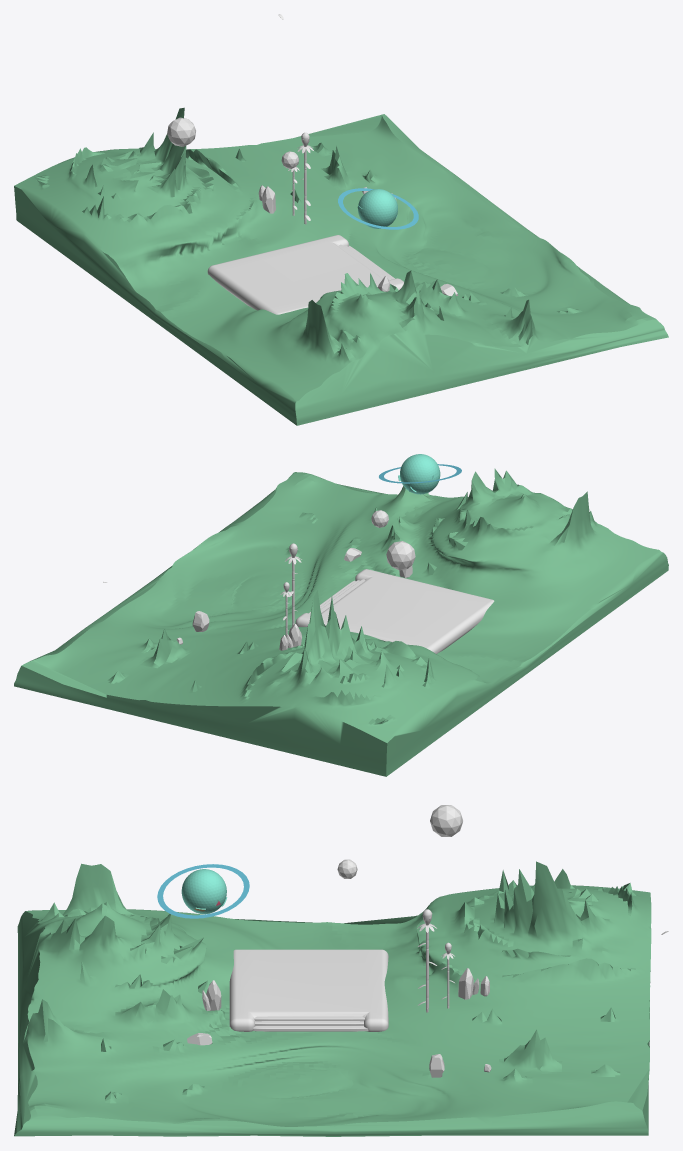
File: scenes.fbx
3 views of the same model, one above another, from view 1: azimuth 30°, elevation 25°; view 2: azimuth 150°, elevation 25°; view 3: azimuth 270°, elevation 25° (orthographic). The views are drawn at different scales.
Visible parts, largest first — view 1: dixing, 平面, 星球1, 星球2.001, 星球1环; view 2: dixing, 平面, 星球1, 星球2.001; view 3: dixing, 平面, 台阶, 星球1, 星球1环, 星球2.001, 植物1.001.
Part boxes in pixels (x1,y1,x2,y2): dixing: [14, 107, 668, 425]; 平面: [207, 235, 403, 314]; 星球1: [357, 189, 397, 228]; 星球2.001: [167, 117, 195, 146]; 星球1环: [338, 188, 418, 229]; dixing: [14, 468, 668, 776]; 平面: [295, 569, 494, 653]; 星球1: [398, 454, 440, 494]; 星球2.001: [386, 541, 415, 570]; dixing: [14, 861, 651, 1136]; 平面: [229, 949, 388, 1031]; 台阶: [253, 1016, 368, 1031]; 星球1: [181, 869, 227, 914]; 星球1环: [157, 864, 249, 918]; 星球2.001: [430, 805, 462, 836]; 植物1.001: [417, 909, 436, 1012].
Size of the model in its own units: 20521 by 7908 by 27685.
